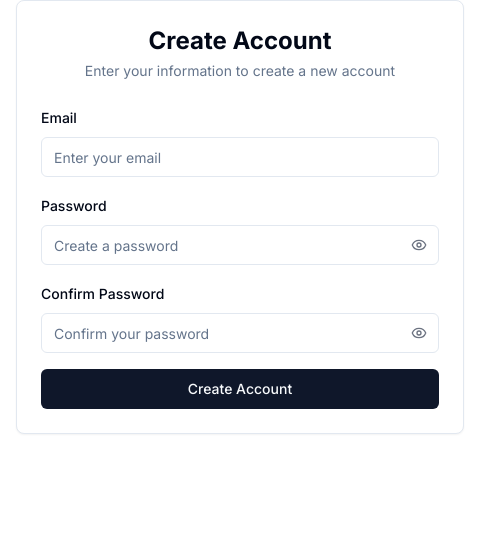
Test: RegisterForm › displays password strength indicator
The width and height of the screenshot is (481, 559).
Type "weak" into the password field labelled "Password" at (240, 245), box [41,225,439,265]
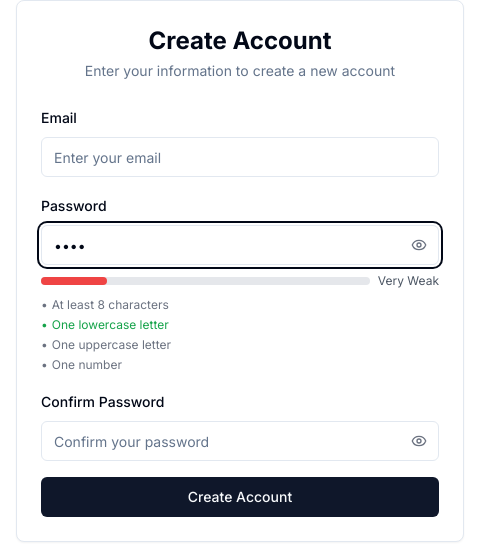
Expected: the text "Very Weak" is shown, [378,273,439,289]
Type "StrongPassword123!" into the password field labelled "Password" at (240, 245), box [41,225,439,265]
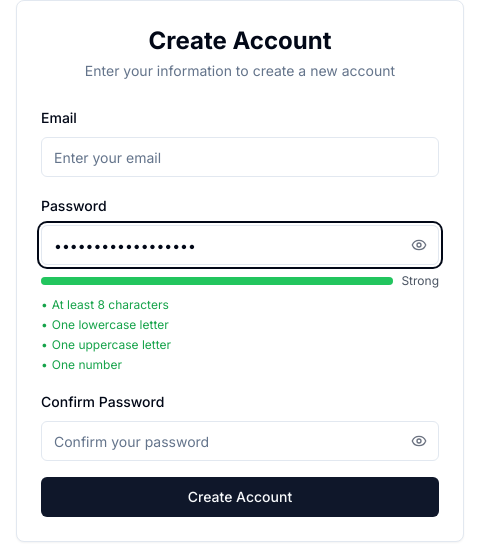
Expected: the text "Strong" is shown, [401,273,439,289]
